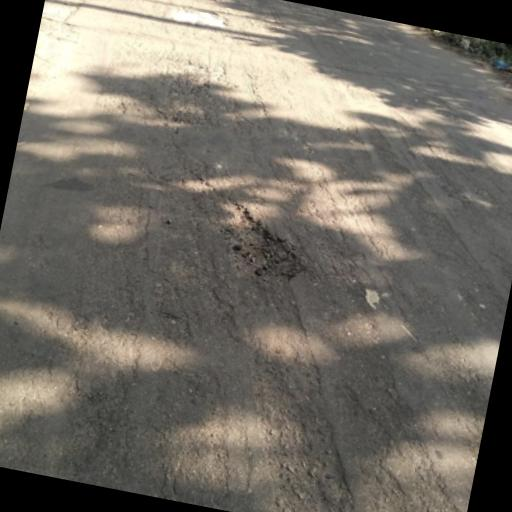pothole: (211, 199, 318, 293)
